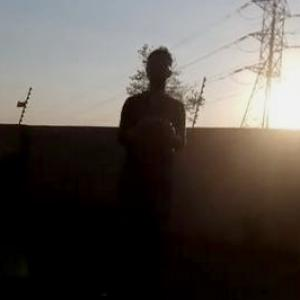follow: (95, 39, 188, 299)
